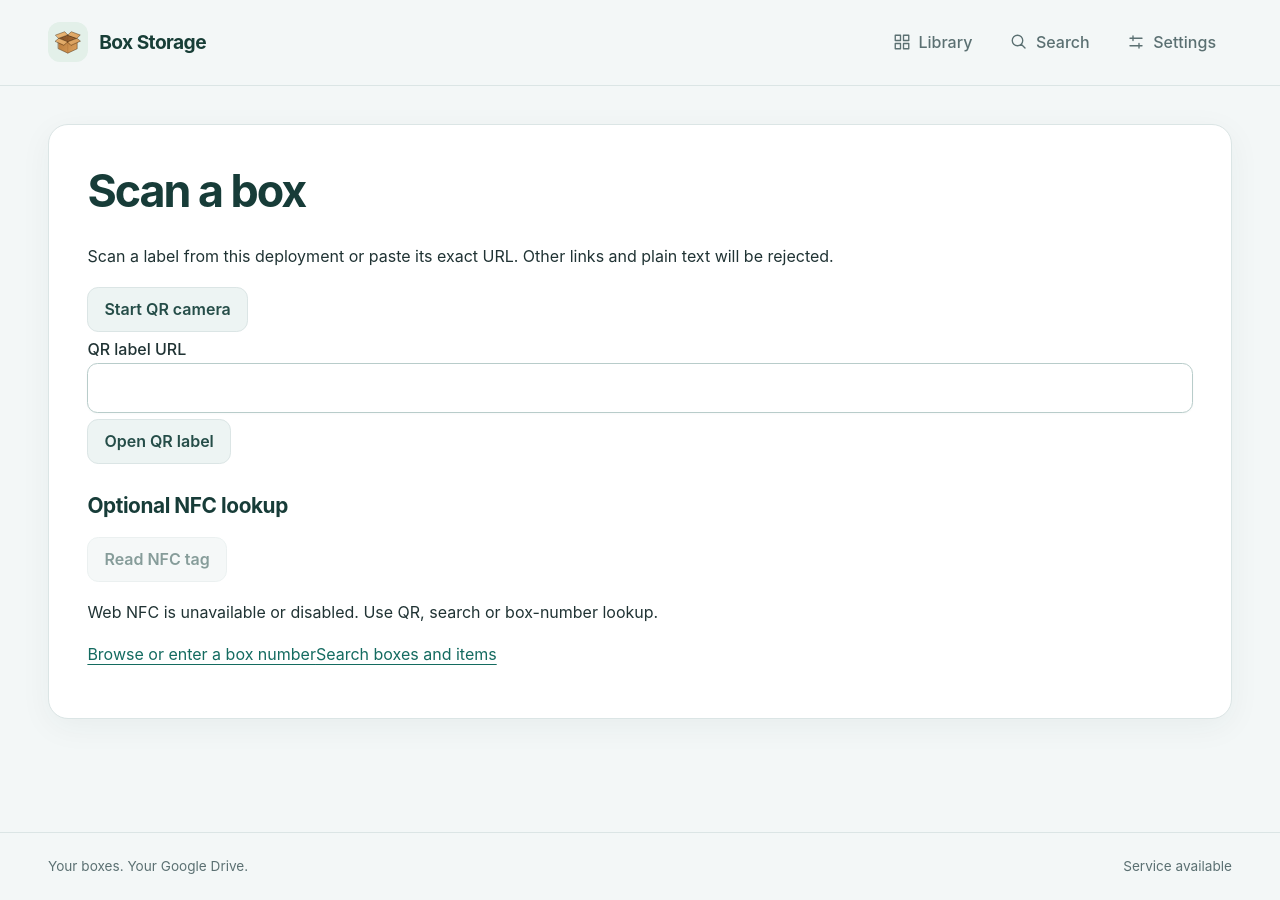
Test: labels and scanner views › retains fallback navigation when camera is denied and NFC unsupported
What coordinates should you click on to do the following:
click the button "Start QR camera"
I would click on:
 (168, 309)
Its box is [87,287,248,332].
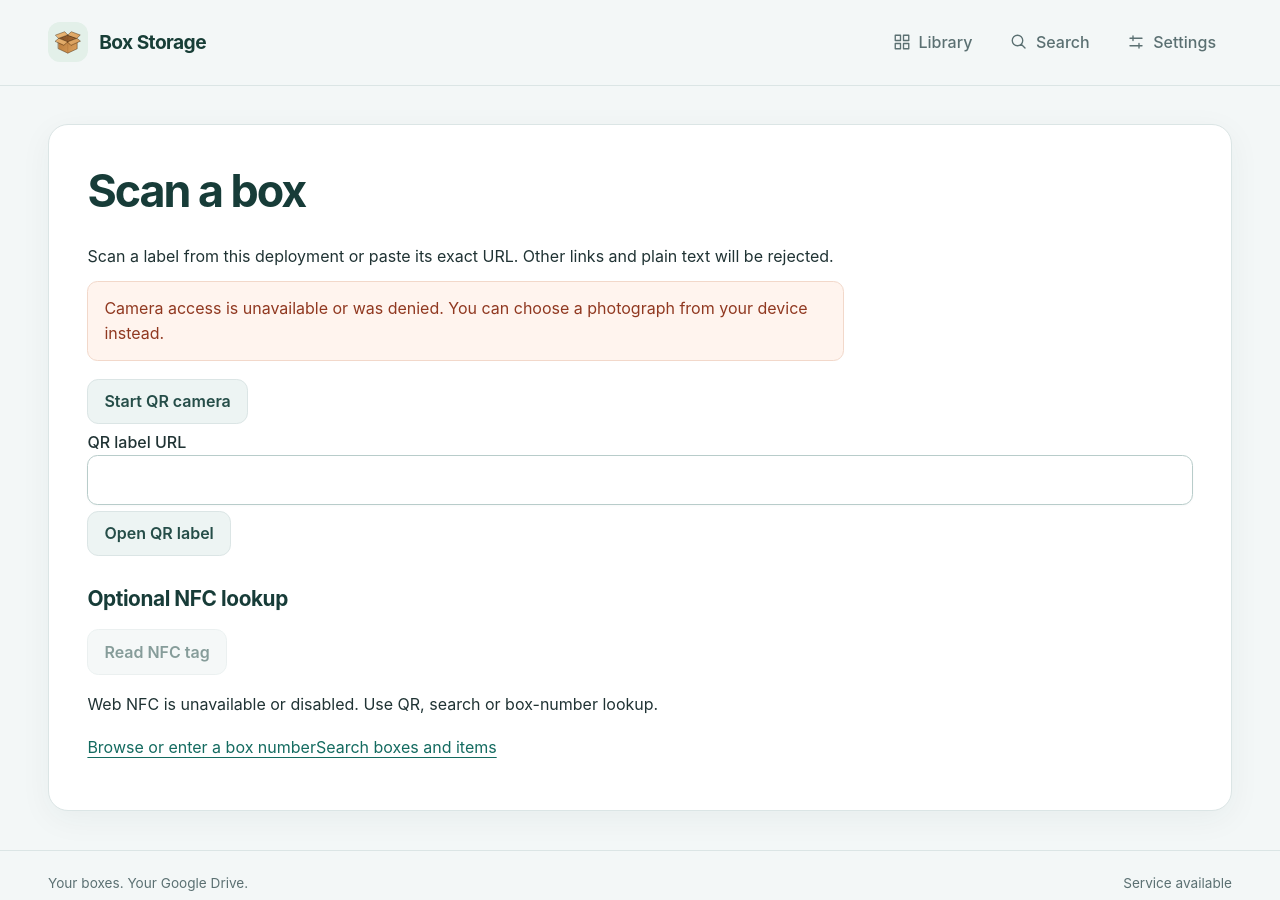
Expected: the link "Browse or enter a box number" is shown, [87,734,316,760]
Result: the 1st message shows "Camera access is unavailable" at [104,298,808,343]
